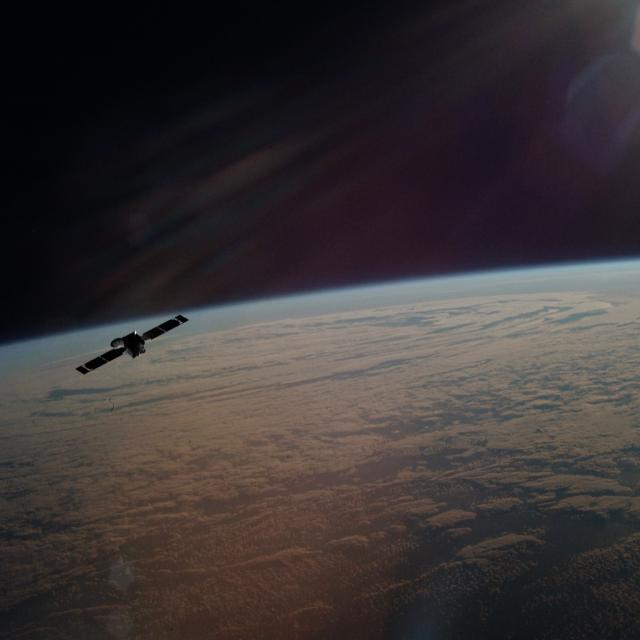satellite: (68, 309, 199, 385)
